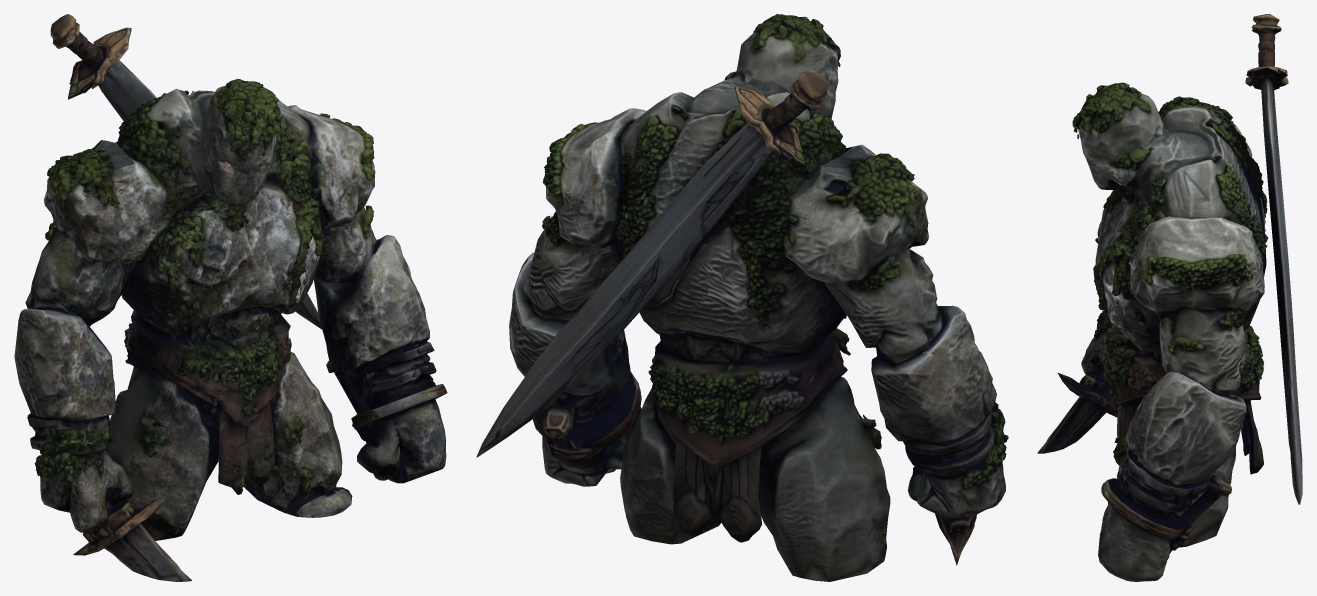
The model's file is golem.glb.
The picture shows the model from 3 angles, left to right: view 1: azimuth 30°, elevation 25°; view 2: azimuth 150°, elevation 25°; view 3: azimuth 270°, elevation 25°; orthographic projection. The views are drawn at different scales.
Visible parts, largest first — view 1: world; view 2: world; view 3: world.
Part boxes in pixels (x1,y1,x2,y2): world: [14, 14, 447, 581]; world: [476, 14, 1008, 581]; world: [1037, 14, 1302, 581].
Bounding box in the file's own units: 0.8901 × 0.9999 × 0.5428.
Materials: 1 (1 with a texture image).
